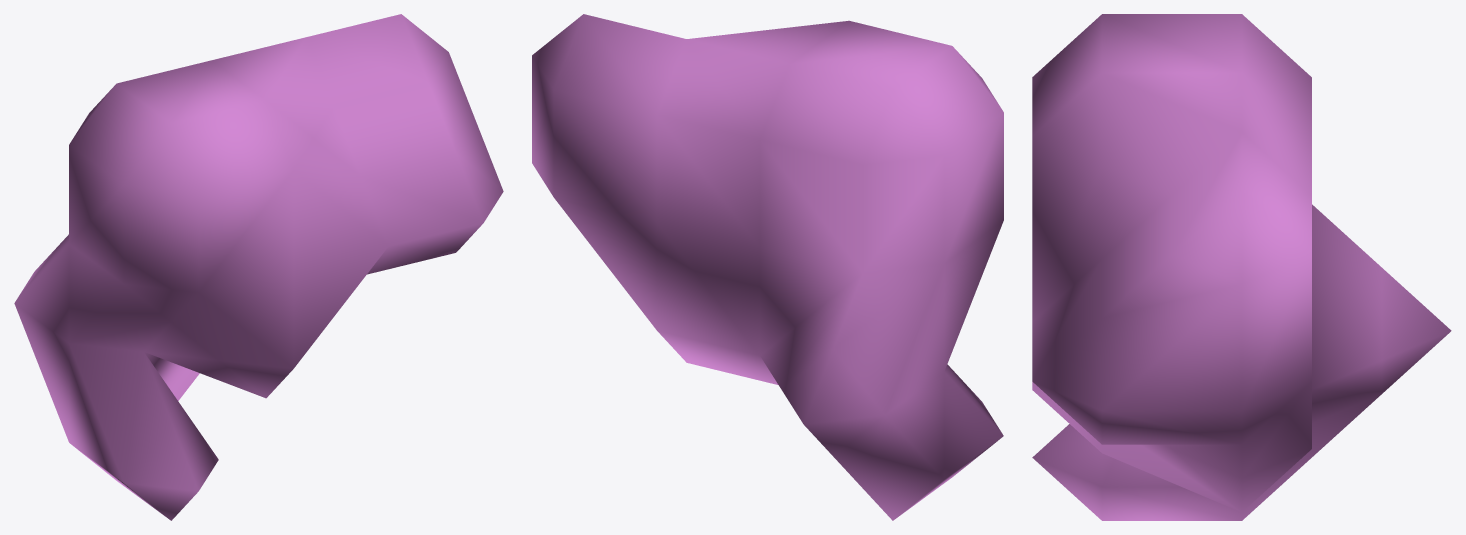
Rendered from spl-340.glb.
3 renders of one model, left to right at view 1: azimuth 30°, elevation 25°; view 2: azimuth 150°, elevation 25°; view 3: azimuth 270°, elevation 25°, orthographic. The views are drawn at different scales.
Visible parts, largest first — view 1: spl-340; view 2: spl-340; view 3: spl-340.
Part boxes in pixels (x1,y1,x2,y2): spl-340: (14,14,503,520); spl-340: (532,14,1003,520); spl-340: (1032,14,1451,520).
Bounding box in the file's own units: 4 × 4 × 3.
